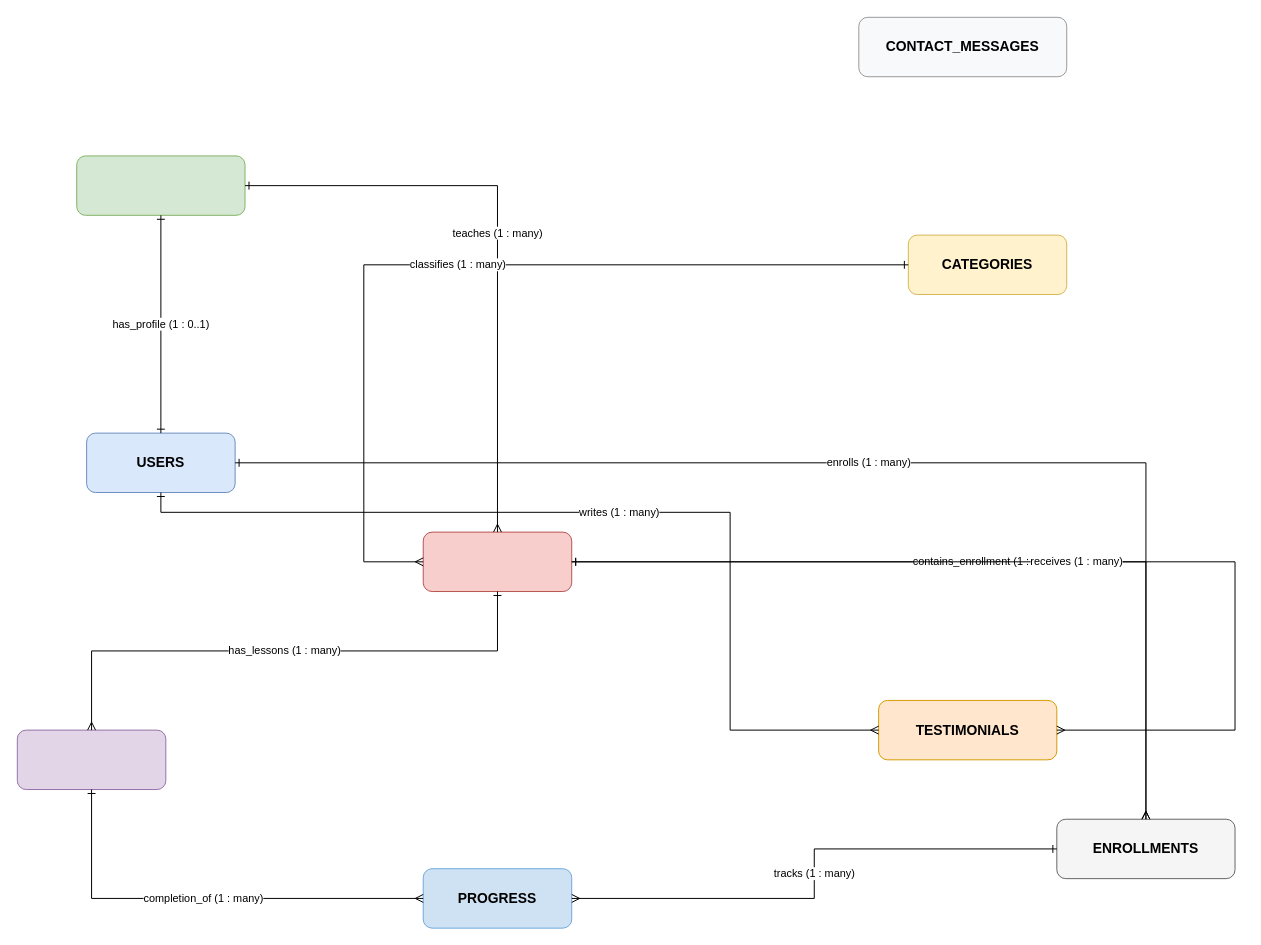
This 1261x945 diagram has some shape labels left out. The centre of each missing label's shape, as x and y in pixels:
COURSES: point (497, 561)
INSTRUCTORS: point (160, 185)
LESSONS: point (91, 759)
